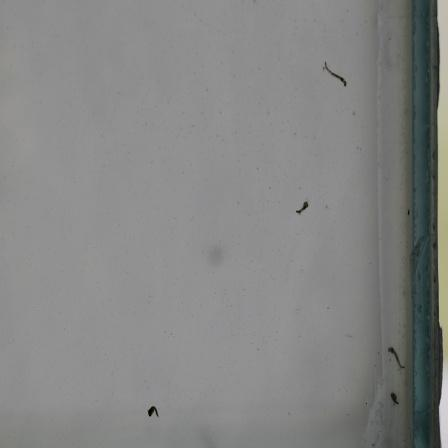Jentik-Nyamuk: (321, 57, 351, 89), (386, 344, 407, 372), (143, 400, 163, 420), (293, 199, 313, 217), (386, 388, 401, 408)
